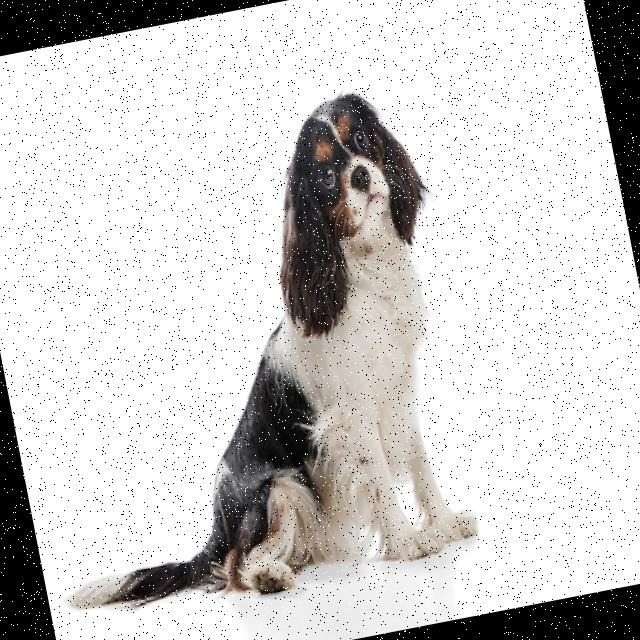Dog: (0, 79, 497, 631)
